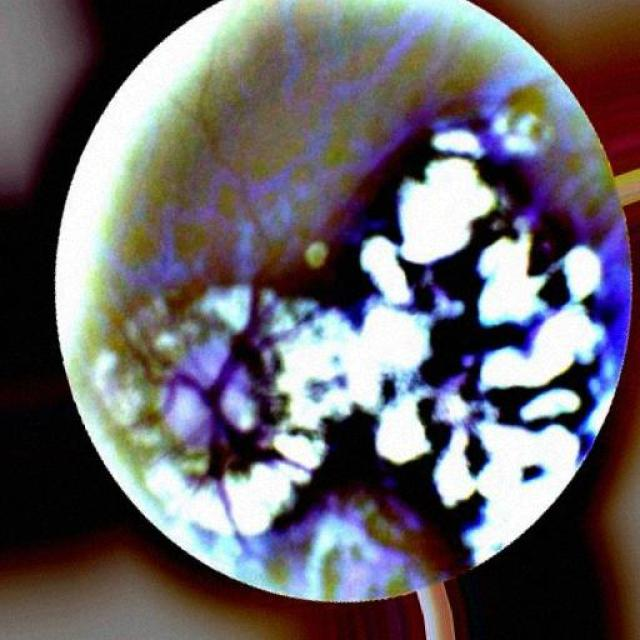Nerves: (190, 63, 274, 397), (204, 390, 308, 545), (119, 315, 208, 432)
Optic Disk: (131, 295, 326, 520)
